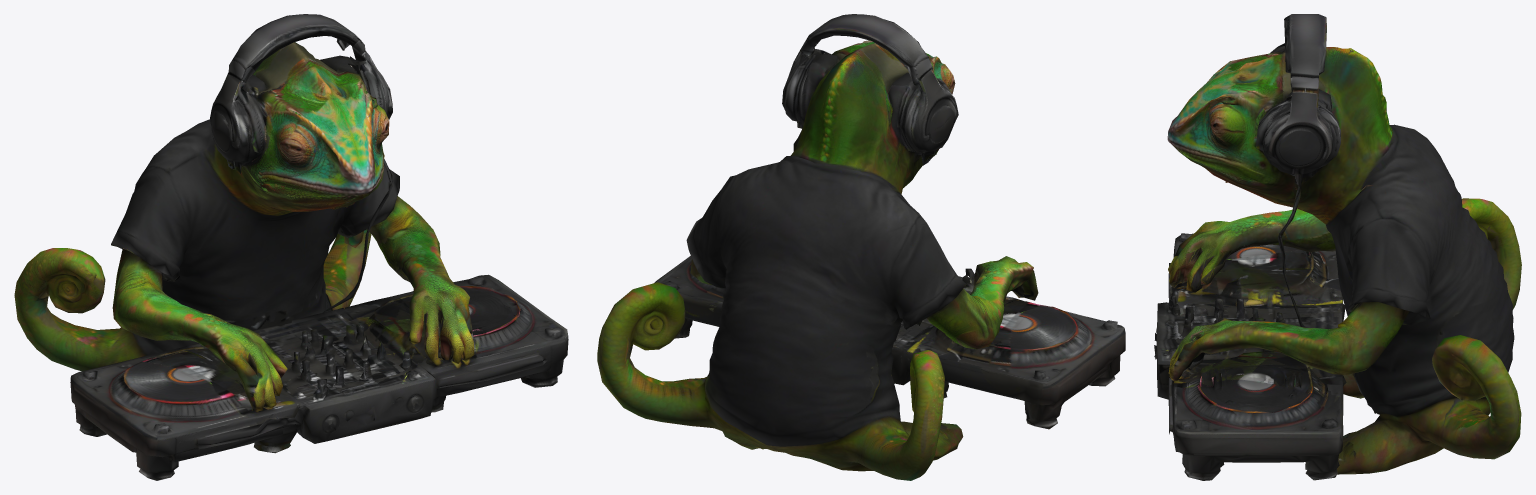
File: Chameleon_DJ_0626171824_texture.glb
3 views of the same model, side by side, from view 1: azimuth 30°, elevation 25°; view 2: azimuth 150°, elevation 25°; view 3: azimuth 270°, elevation 25° (orthographic). The views are drawn at different scales.
Size of the model in its own units: 1.97 by 1.83 by 1.51.
Materials: 1 (1 with a texture image).
